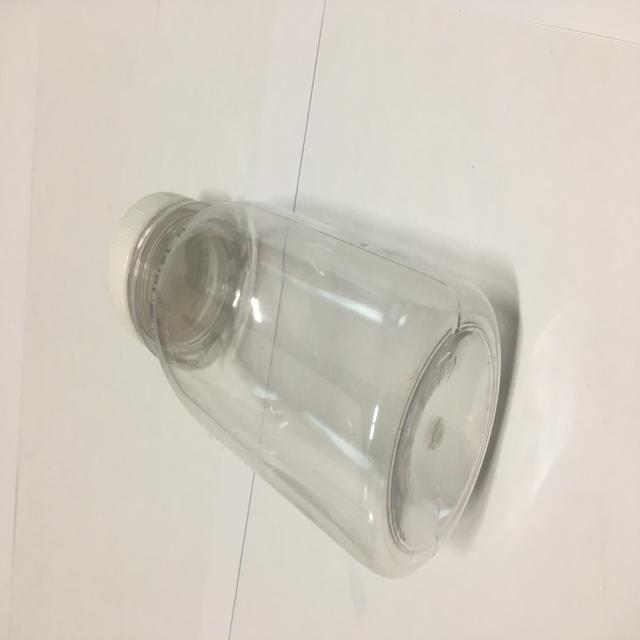bottle: (88, 174, 507, 581)
